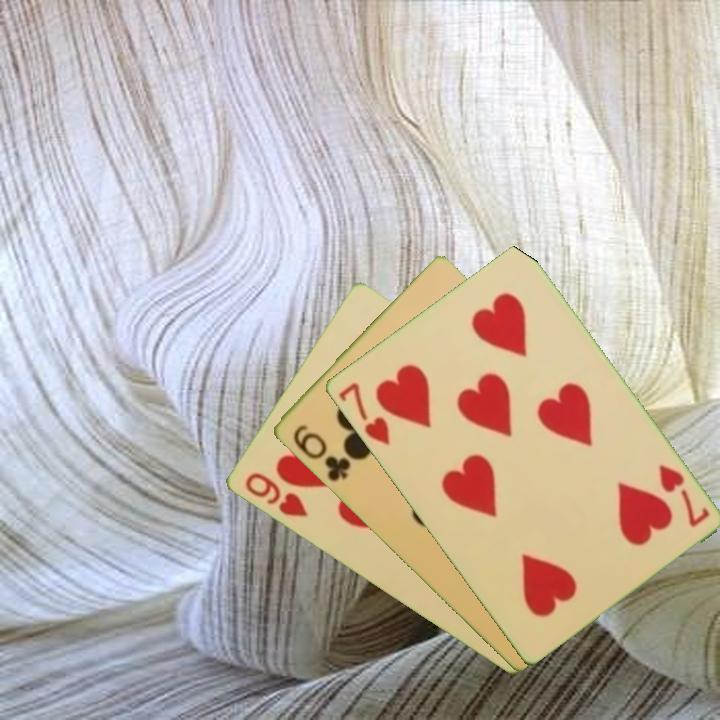6c: (288, 420, 353, 485)
7h: (334, 378, 393, 449), (654, 460, 712, 530)
9h: (240, 469, 310, 521)
